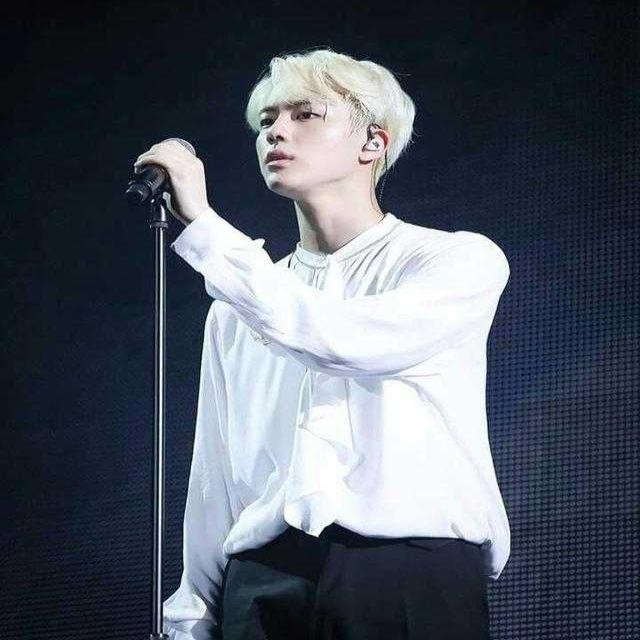microphone: (125, 137, 191, 207)
